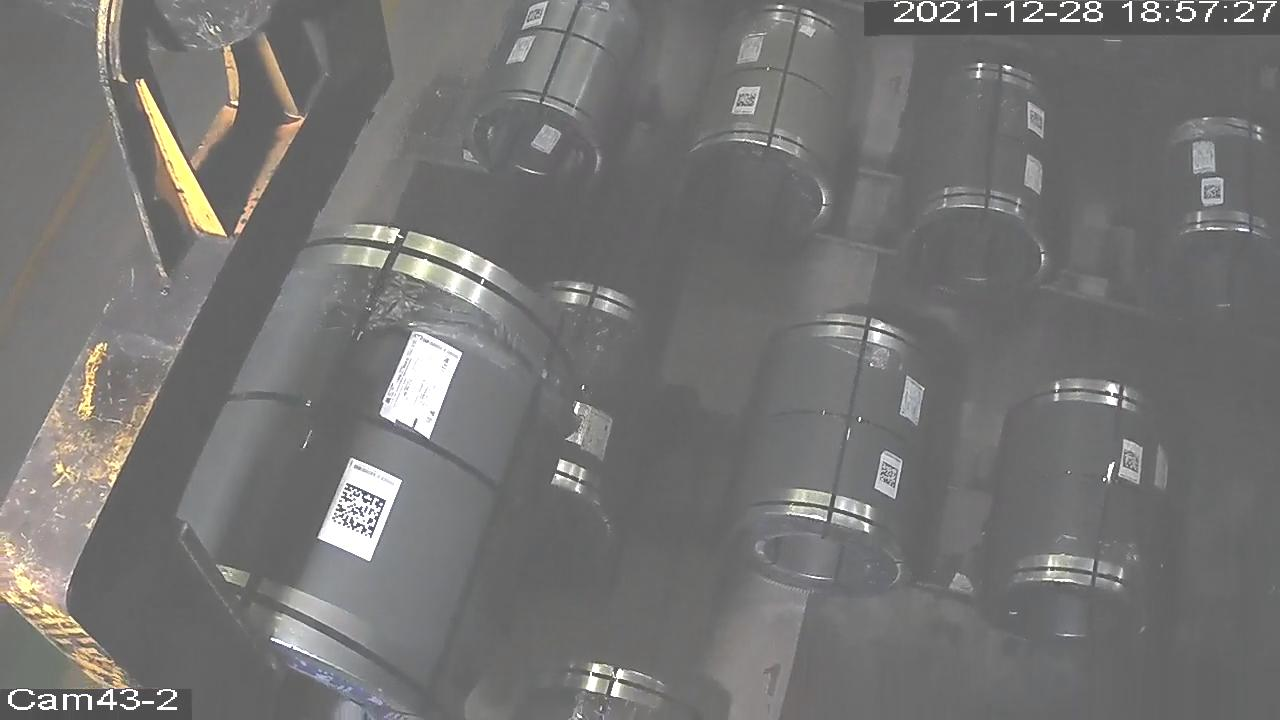data matrix: (328, 481, 390, 542), (878, 460, 901, 491), (1122, 448, 1143, 476), (735, 89, 760, 111), (1027, 107, 1047, 134), (1203, 183, 1224, 203), (525, 7, 546, 25)
